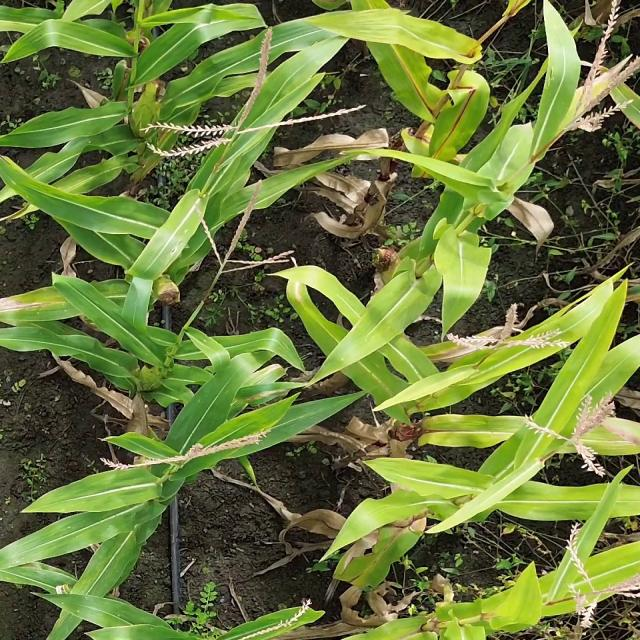gray-leaf-spot: (2, 564, 50, 584)
northern-leaf-blight: (2, 300, 69, 322), (106, 66, 138, 101), (243, 383, 290, 406), (291, 281, 314, 313), (251, 364, 287, 384)
southern-leaf-blight: (56, 593, 95, 613)
